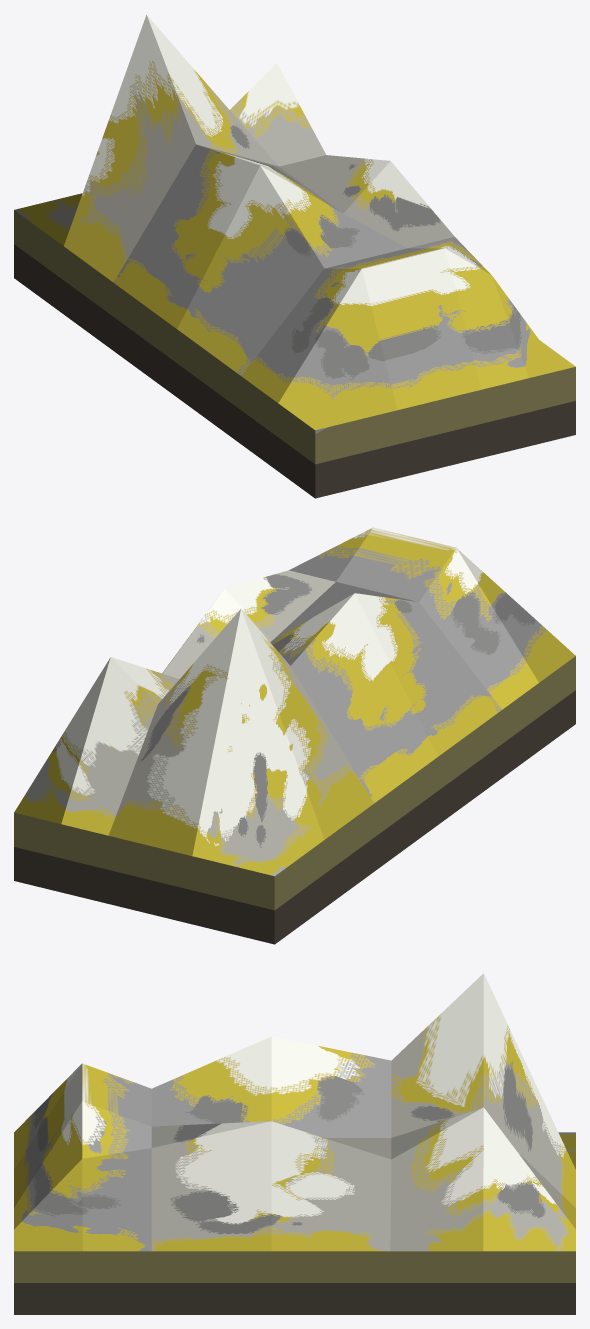
File: tile1_2 mountain.fbx
The picture shows the model from 3 angles, top to bottom: view 1: azimuth 30°, elevation 25°; view 2: azimuth 150°, elevation 25°; view 3: azimuth 270°, elevation 25°; orthographic projection. The views are drawn at different scales.
Visible parts, largest first — view 1: Cube.001; view 2: Cube.001; view 3: Cube.001.
Part boxes in pixels (x1=…): Cube.001: x1=14, y1=14, x2=575, y2=498; Cube.001: x1=14, y1=527, x2=575, y2=944; Cube.001: x1=14, y1=973, x2=575, y2=1314.
Size of the model in its own units: 200 by 205 by 400.
1 material, 1 textured.
